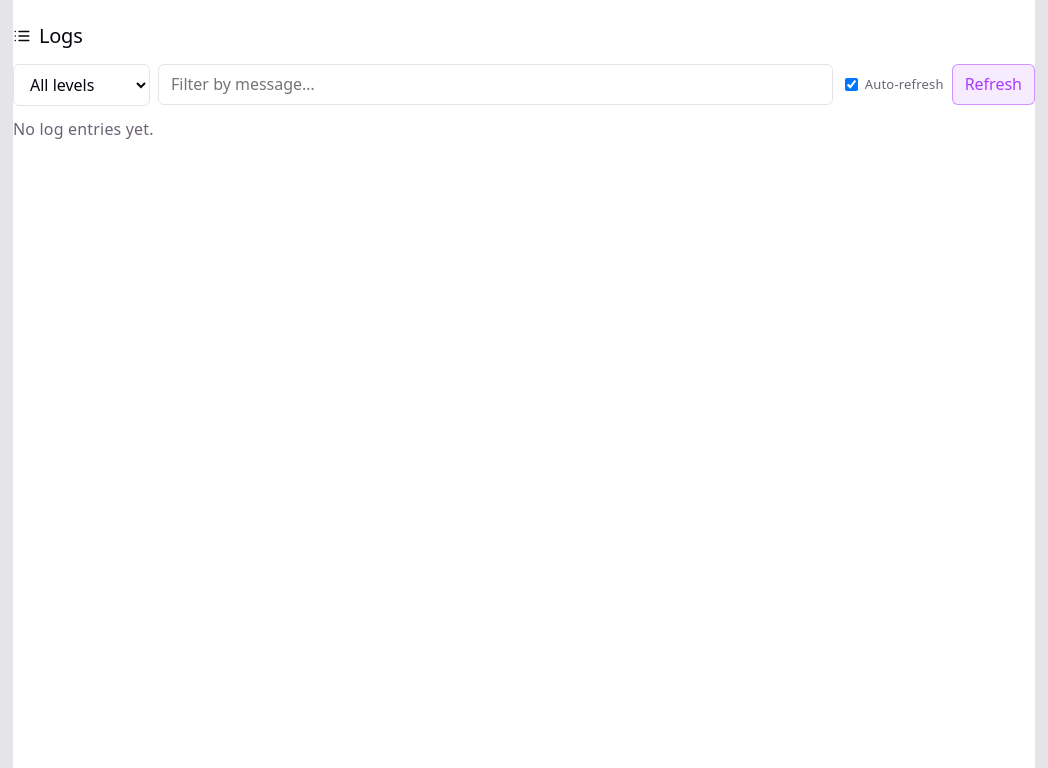
LogsPanel › does not let a slow, superseded request overwrite a faster newer one
The width and height of the screenshot is (1048, 768).
Select "Warning" in the dropdown named "Minimum log level" at (82, 85), box [13,64,150,106]
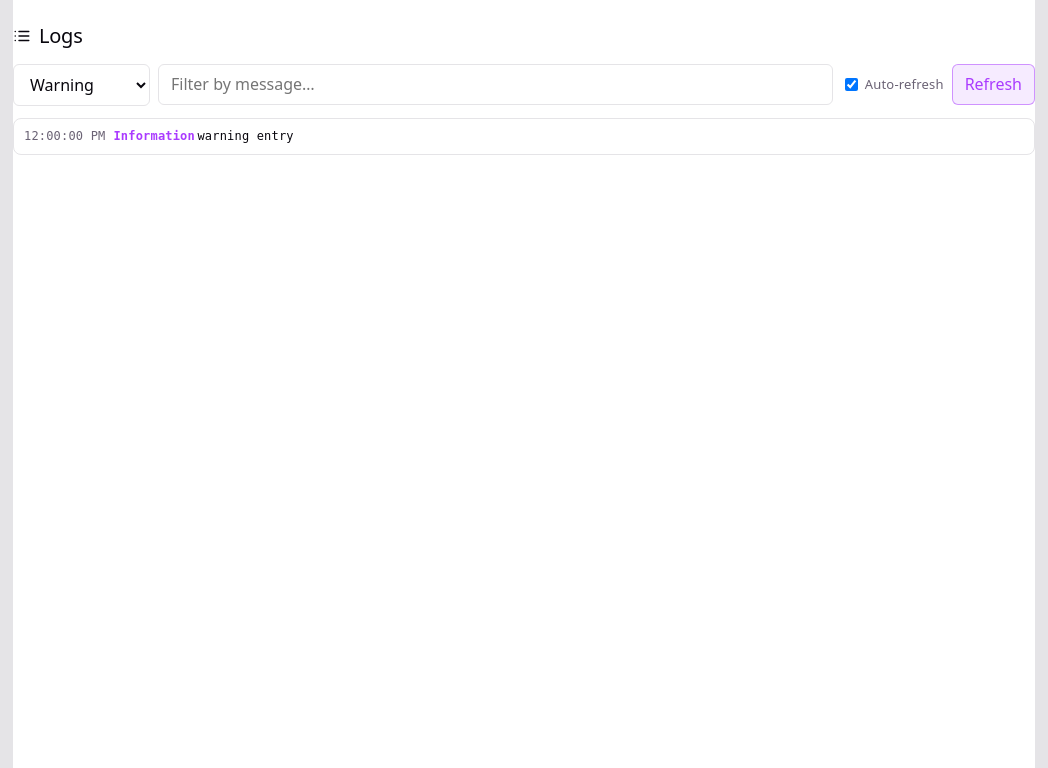
Expected: the text "warning entry" is shown, [198,129,294,143]
